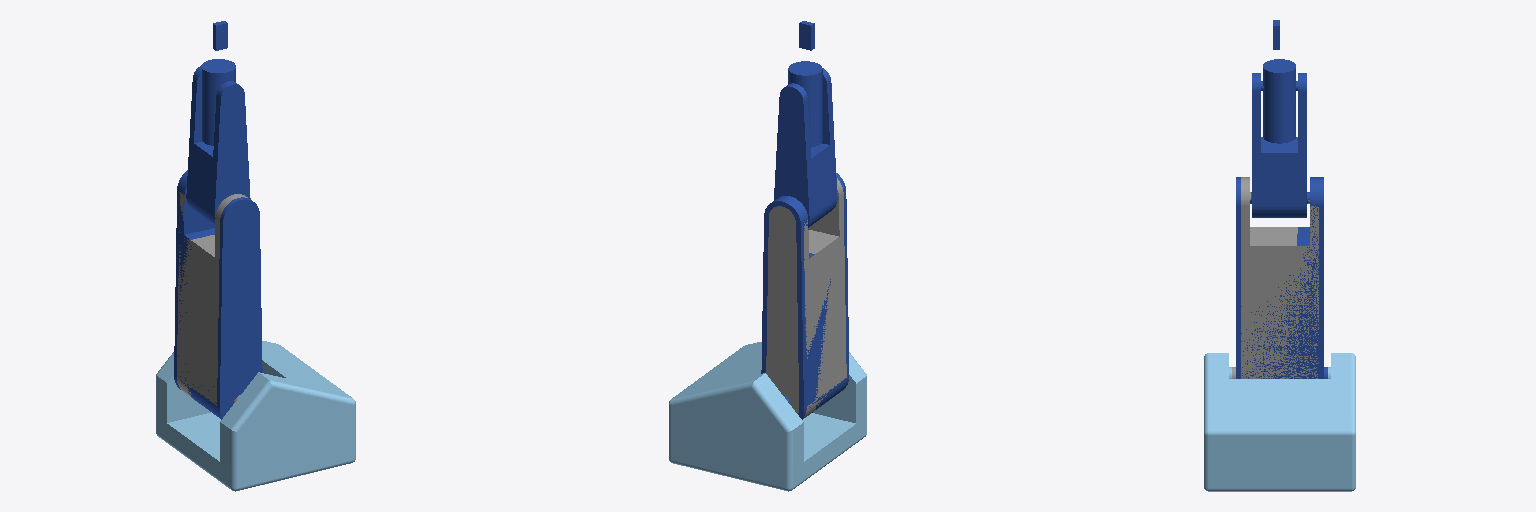
The robot description file, URDF, robot "LabVolt5250A0":
<?xml version="1.0" ?>
<!-- Generated using onshape-to-robot -->
<!-- Onshape https://cad.onshape.com/documents/014a20f50428bdbec6a33164/w/f323398f0330f594139dc806/e/e7819094eb14ffb5fdca6208 -->
<robot name="LabVolt5250A0">
  <!-- Link part_2 -->
  <link name="part_2">
    <inertial>
      <origin xyz="0 0 0" rpy="0 0 0"/>
      <mass value="1e-09"/>
      <inertia ixx="1e-09" ixy="0" ixz="0" iyy="1e-09" iyz="0" izz="1e-09"/>
    </inertial>
    <!-- Part part_2 -->
    <visual>
      <origin xyz="0 0 0" rpy="0 -0 0"/>
      <geometry>
        <mesh filename="package://assets/part_2.stl"/>
      </geometry>
      <material name="part_2_material">
        <color rgba="0.615686 0.811765 0.929412 1.0"/>
      </material>
    </visual>
    <collision>
      <origin xyz="0 0 0" rpy="0 -0 0"/>
      <geometry>
        <mesh filename="package://assets/part_2.stl"/>
      </geometry>
    </collision>
  </link>
  <!-- Link part_3 -->
  <link name="part_3">
    <inertial>
      <origin xyz="0 0 0" rpy="0 0 0"/>
      <mass value="1e-09"/>
      <inertia ixx="1e-09" ixy="0" ixz="0" iyy="1e-09" iyz="0" izz="1e-09"/>
    </inertial>
    <!-- Part part_3 -->
    <visual>
      <origin xyz="0.061 -1.3831e-17 0.2285" rpy="3.14159 -0 7.46023e-62"/>
      <geometry>
        <mesh filename="package://assets/part_3.stl"/>
      </geometry>
      <material name="part_3_material">
        <color rgba="0.647059 0.647059 0.647059 1.0"/>
      </material>
    </visual>
    <collision>
      <origin xyz="0.061 -1.3831e-17 0.2285" rpy="3.14159 -0 7.46023e-62"/>
      <geometry>
        <mesh filename="package://assets/part_3.stl"/>
      </geometry>
    </collision>
  </link>
  <!-- Link part_4 -->
  <link name="part_4">
    <inertial>
      <origin xyz="0 0 0" rpy="0 0 0"/>
      <mass value="1e-09"/>
      <inertia ixx="1e-09" ixy="0" ixz="0" iyy="1e-09" iyz="0" izz="1e-09"/>
    </inertial>
    <!-- Part part_4 -->
    <visual>
      <origin xyz="0.0665 0.381473 -0.089" rpy="1.5708 -5.90629e-32 0"/>
      <geometry>
        <mesh filename="package://assets/part_4.stl"/>
      </geometry>
      <material name="part_4_material">
        <color rgba="0.231373 0.380392 0.705882 1.0"/>
      </material>
    </visual>
    <collision>
      <origin xyz="0.0665 0.381473 -0.089" rpy="1.5708 -5.90629e-32 0"/>
      <geometry>
        <mesh filename="package://assets/part_4.stl"/>
      </geometry>
    </collision>
  </link>
  <!-- Link part_5 -->
  <link name="part_5">
    <inertial>
      <origin xyz="0 0 0" rpy="0 0 0"/>
      <mass value="1e-09"/>
      <inertia ixx="1e-09" ixy="0" ixz="0" iyy="1e-09" iyz="0" izz="1e-09"/>
    </inertial>
    <!-- Part part_5 -->
    <visual>
      <origin xyz="0.0665 0.747473 -0.05275" rpy="1.5708 3.96473e-31 0"/>
      <geometry>
        <mesh filename="package://assets/part_5.stl"/>
      </geometry>
      <material name="part_5_material">
        <color rgba="0.231373 0.380392 0.705882 1.0"/>
      </material>
    </visual>
    <collision>
      <origin xyz="0.0665 0.747473 -0.05275" rpy="1.5708 3.96473e-31 0"/>
      <geometry>
        <mesh filename="package://assets/part_5.stl"/>
      </geometry>
    </collision>
  </link>
  <!-- Link part_6 -->
  <link name="part_6">
    <inertial>
      <origin xyz="0 0 0" rpy="0 0 0"/>
      <mass value="1e-09"/>
      <inertia ixx="1e-09" ixy="0" ixz="0" iyy="1e-09" iyz="0" izz="1e-09"/>
    </inertial>
    <!-- Part part_6 -->
    <visual>
      <origin xyz="0.0665 0.977473 -0.0313886" rpy="1.5708 1.09251e-47 0"/>
      <geometry>
        <mesh filename="package://assets/part_6.stl"/>
      </geometry>
      <material name="part_6_material">
        <color rgba="0.231373 0.380392 0.705882 1.0"/>
      </material>
    </visual>
    <collision>
      <origin xyz="0.0665 0.977473 -0.0313886" rpy="1.5708 1.09251e-47 0"/>
      <geometry>
        <mesh filename="package://assets/part_6.stl"/>
      </geometry>
    </collision>
  </link>
  <!-- Link part_7 -->
  <link name="part_7">
    <inertial>
      <origin xyz="0 0 0" rpy="0 0 0"/>
      <mass value="1e-09"/>
      <inertia ixx="1e-09" ixy="0" ixz="0" iyy="1e-09" iyz="0" izz="1e-09"/>
    </inertial>
    <!-- Part part_7 -->
    <visual>
      <origin xyz="0.0665 -0.00075 1.01889" rpy="3.14159 -0 0"/>
      <geometry>
        <mesh filename="package://assets/part_7.stl"/>
      </geometry>
      <material name="part_7_material">
        <color rgba="0.231373 0.380392 0.705882 1.0"/>
      </material>
    </visual>
    <collision>
      <origin xyz="0.0665 -0.00075 1.01889" rpy="3.14159 -0 0"/>
      <geometry>
        <mesh filename="package://assets/part_7.stl"/>
      </geometry>
    </collision>
  </link>
  <!-- Joint from part_6 to part_7 -->
  <joint name="Revolute 5" type="revolute">
    <origin xyz="-1.80411e-16 -0.041413 -0.0321386" rpy="-1.5708 7.17016e-15 1.47105e-15"/>
    <parent link="part_6"/>
    <child link="part_7"/>
    <axis xyz="0 0 1"/>
    <limit effort="10" velocity="10" lower="-1.5708" upper="1.5708"/>
  </joint>
  <!-- Joint from part_5 to part_6 -->
  <joint name="Revolute 4" type="revolute">
    <origin xyz="0 -0.23 -0.0213614" rpy="-6.70734e-15 1.06007e-14 -5.91194e-15"/>
    <parent link="part_5"/>
    <child link="part_6"/>
    <axis xyz="0 0 1"/>
    <limit effort="10" velocity="10" lower="-1.5708" upper="1.5708"/>
  </joint>
  <!-- Joint from part_4 to part_5 -->
  <joint name="Revolute 3" type="revolute">
    <origin xyz="0 -0.366 -0.03625" rpy="6.14954e-15 -2.64151e-15 3.88578e-16"/>
    <parent link="part_4"/>
    <child link="part_5"/>
    <axis xyz="0 0 1"/>
    <limit effort="10" velocity="10" lower="-2.0944" upper="2.0944"/>
  </joint>
  <!-- Joint from part_3 to part_4 -->
  <joint name="Revolute 2" type="revolute">
    <origin xyz="-0.0055 -0.089 -0.152973" rpy="1.5708 -5.55112e-15 -8.05484e-15"/>
    <parent link="part_3"/>
    <child link="part_4"/>
    <axis xyz="0 0 1"/>
    <limit effort="10" velocity="10" lower="-2.0944" upper="0.349066"/>
  </joint>
  <!-- Joint from part_2 to part_3 -->
  <joint name="Revolute 1" type="revolute">
    <origin xyz="-0.061 7.70547e-17 0.2285" rpy="3.14159 8.39705e-32 -1.249e-16"/>
    <parent link="part_2"/>
    <child link="part_3"/>
    <axis xyz="0 0 1"/>
    <limit effort="10" velocity="10" lower="0" upper="3.14159"/>
  </joint>
</robot>

--- Render facts (derived) ---
The picture shows the robot from 3 angles, left to right: view 1: azimuth 30°, elevation 25°; view 2: azimuth 150°, elevation 25°; view 3: azimuth 270°, elevation 25°; orthographic projection.
Robot: LabVolt5250A0 — 6 links, 5 joints (5 revolute); root link part_2; default pose: all joints at 0.
Links seen in each view (by area): view 1: part_2, part_4, part_3, part_5, part_6; view 2: part_2, part_3, part_5, part_4, part_6; view 3: part_2, part_3, part_5, part_4, part_6.
Link boxes in pixels (x1,y1,x2,y2): part_2: (156,341,355,491); part_4: (174,170,262,419); part_3: (177,192,247,405); part_5: (186,65,250,225); part_6: (202,59,235,145); part_2: (669,342,866,491); part_3: (766,178,846,419); part_5: (774,68,837,227); part_4: (761,173,848,418); part_6: (788,61,822,147); part_2: (1204,353,1355,491); part_3: (1232,177,1318,378); part_5: (1251,73,1307,217); part_4: (1236,177,1327,378); part_6: (1262,59,1296,143).
Bounding box of the posed robot: 0.26 × 0.285 × 0.8784 m (x, y, z).
6 mesh visuals loaded from 6 distinct referenced files (6 binary STL).
